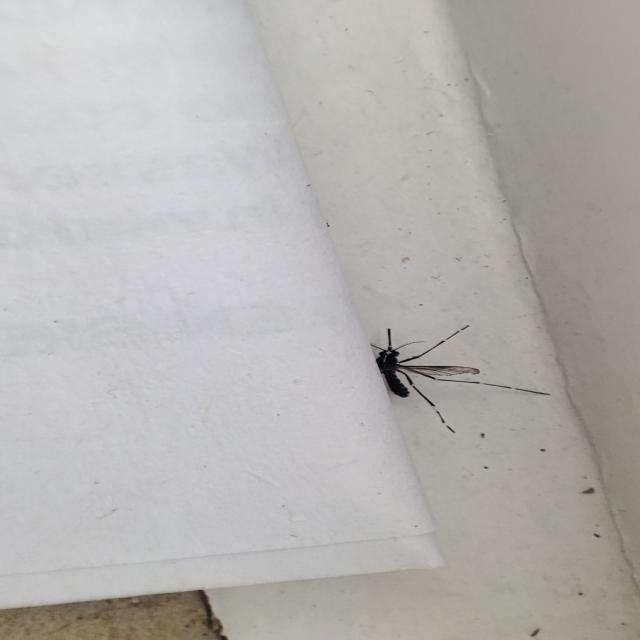albopictus: (342, 319, 545, 436)
